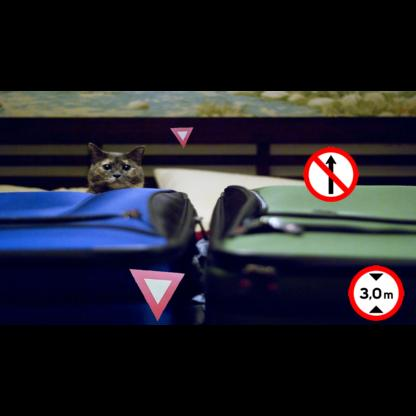R-15: (348, 265, 404, 321)
R-2: (129, 269, 185, 321)
R-3: (303, 147, 359, 202)
